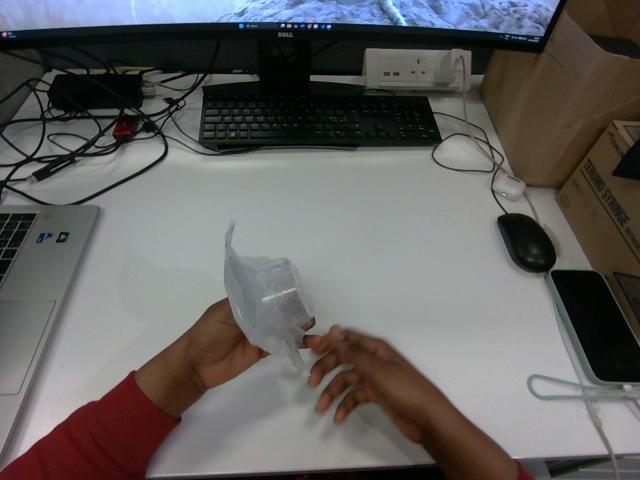gallipot: (224, 223, 312, 369)
